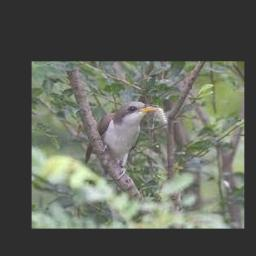Cuckoo: (86, 101, 157, 168)
